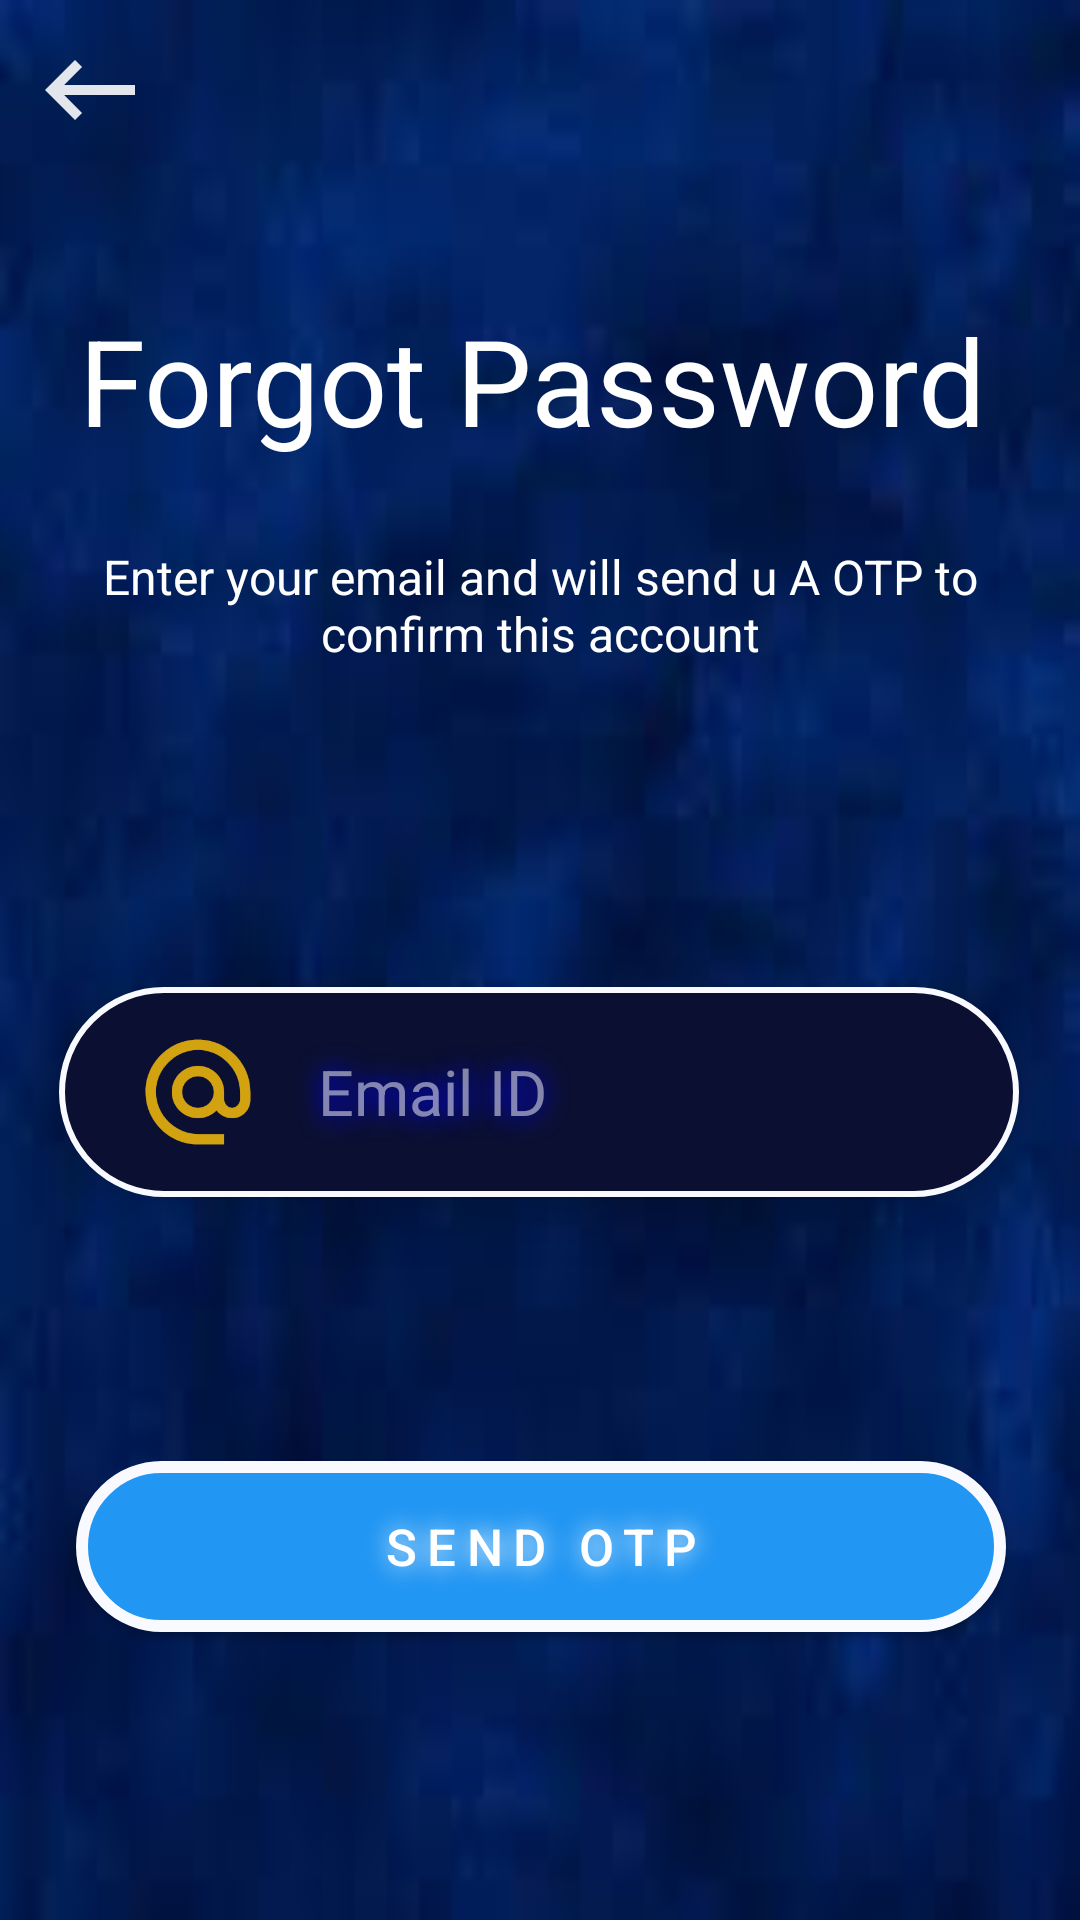

Point at icon controls on the screen. Image size 1080w x 1920h, points as [x,y].
keyboard backspace: [90,90]
